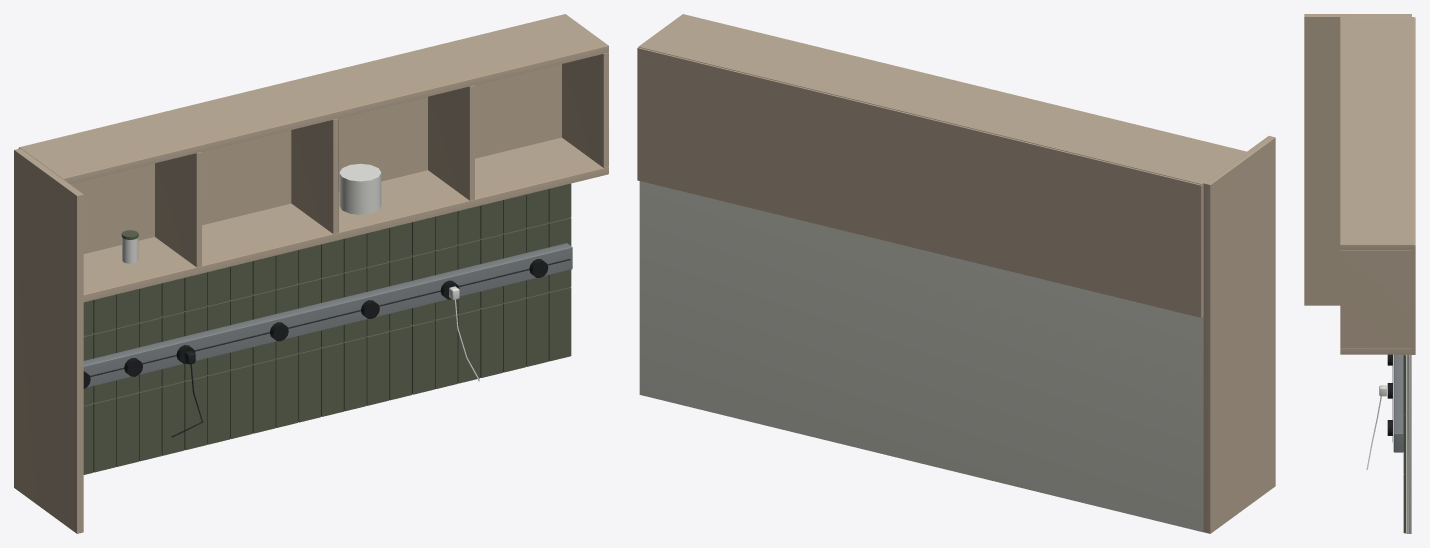
Rendered from lod2_source.glb.
3 views of the same model, side by side, from view 1: azimuth 30°, elevation 25°; view 2: azimuth 150°, elevation 25°; view 3: azimuth 270°, elevation 25° (orthographic). The views are drawn at different scales.
Parts seen in each view (by area): view 1: Upper shelf top plank, Upper open shelf back, Left cabinet tall return, Upper shelf lower plank, Grey socket track, Upper open cubby divider.002, Upper open cubby divider.001, Upper open cubby divider.004, Upper open cubby divider.003, Plain white shelf bowl, Vertical olive tile 11 0, Vertical olive tile 15 0 (+63 smaller); view 2: Backsplash warm grout backing, Upper open shelf back, Left cabinet tall return, Upper shelf top plank; view 3: Upper shelf top plank, Left cabinet tall return, Upper open cubby divider.004, Grey socket track, Backsplash warm grout backing, Upper open shelf back, Upper shelf lower plank, Vertical olive tile 23 2, Vertical olive tile 23 1, Vertical olive tile 23 0.
Part boxes in pixels (x1,y1,x2,y2): Upper shelf top plank: [19, 14, 608, 183]; Upper open shelf back: [18, 64, 561, 253]; Left cabinet tall return: [14, 148, 83, 533]; Upper shelf lower plank: [83, 137, 608, 302]; Grey socket track: [83, 243, 572, 387]; Upper open cubby divider.002: [291, 118, 338, 233]; Upper open cubby divider.001: [155, 152, 201, 267]; Upper open cubby divider.004: [562, 52, 608, 167]; Upper open cubby divider.003: [428, 85, 474, 200]; Plain white shelf bowl: [339, 163, 381, 214]; Vertical olive tile 11 0: [275, 353, 298, 427]; Vertical olive tile 15 0: [366, 331, 389, 405]; Backsplash warm grout backing: [639, 181, 1203, 532]; Upper open shelf back: [637, 47, 1203, 317]; Left cabinet tall return: [1203, 136, 1275, 533]; Upper shelf top plank: [638, 14, 1246, 184]; Upper shelf top plank: [1340, 17, 1414, 250]; Left cabinet tall return: [1304, 14, 1411, 305]; Upper open cubby divider.004: [1340, 250, 1411, 348]; Grey socket track: [1393, 354, 1403, 452]; Backsplash warm grout backing: [1406, 354, 1411, 533]; Upper open shelf back: [1412, 17, 1415, 354]; Upper shelf lower plank: [1340, 348, 1411, 354]; Vertical olive tile 23 2: [1403, 354, 1405, 414]; Vertical olive tile 23 1: [1403, 414, 1405, 473]; Vertical olive tile 23 0: [1403, 474, 1405, 533].
Size of the model in its own units: 2.43 by 1.42 by 0.496.
